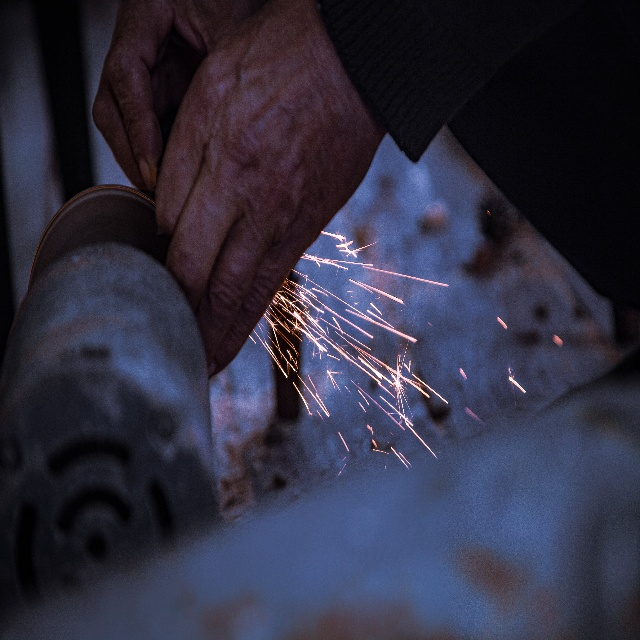Sin_guantes: (152, 0, 382, 378), (91, 11, 237, 196)
